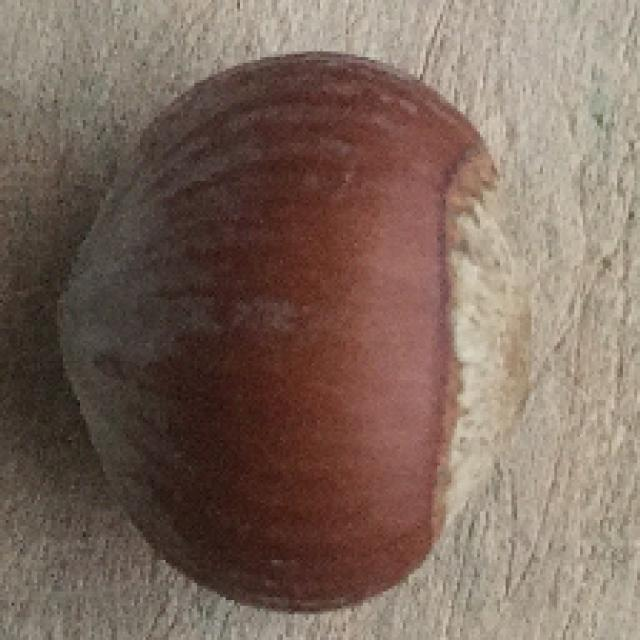QualityHazelnut: (54, 52, 536, 617)
